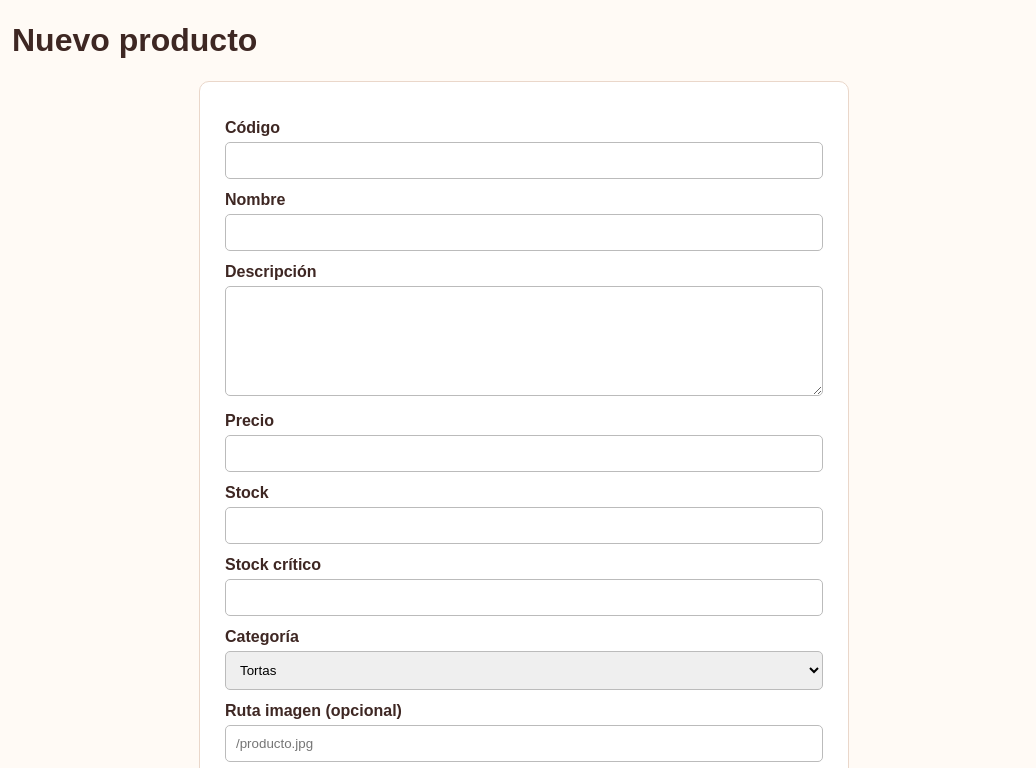
Test: FormularioProductoAdmin › muestra un error si el código tiene menos de 3 caracteres
The width and height of the screenshot is (1036, 768).
Type "AB" into the field with id "codigo" at (524, 161), box [225,142,823,179]
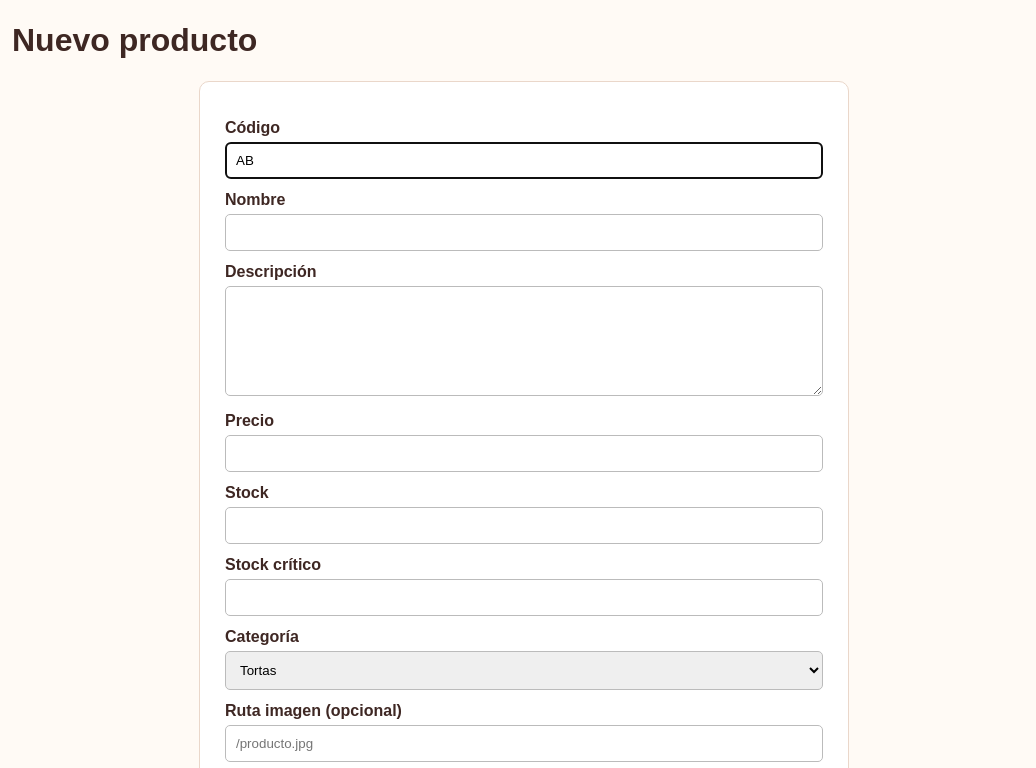
Type "Torta Especial" into the field with id "nombre" at (524, 233), box [225,214,823,251]
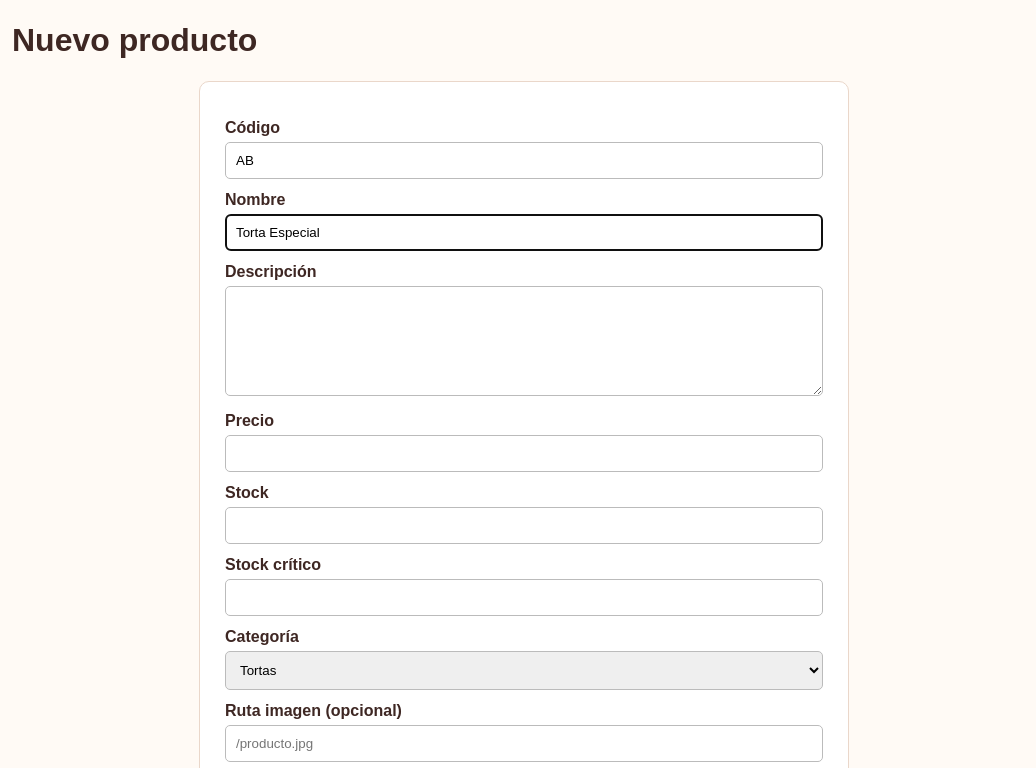
Type "15000" into the 1st number field at (524, 454), box [225,435,823,472]
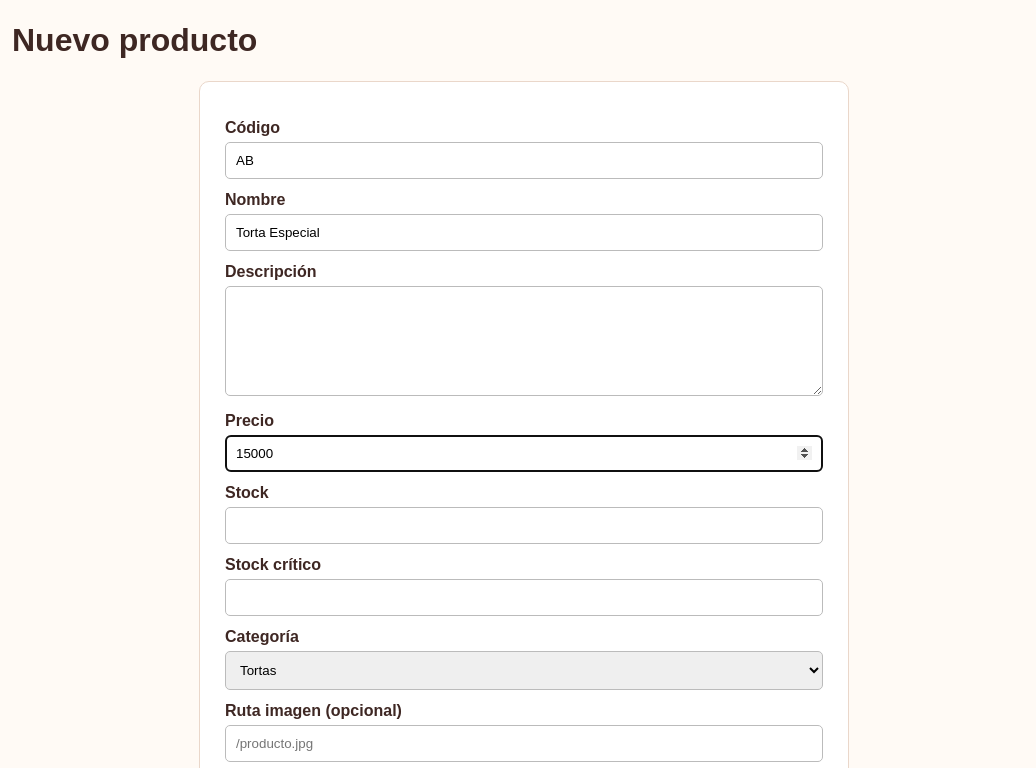
Type "4" into the number field with id "stock" at (524, 526), box [225,507,823,544]
(page scrolled)
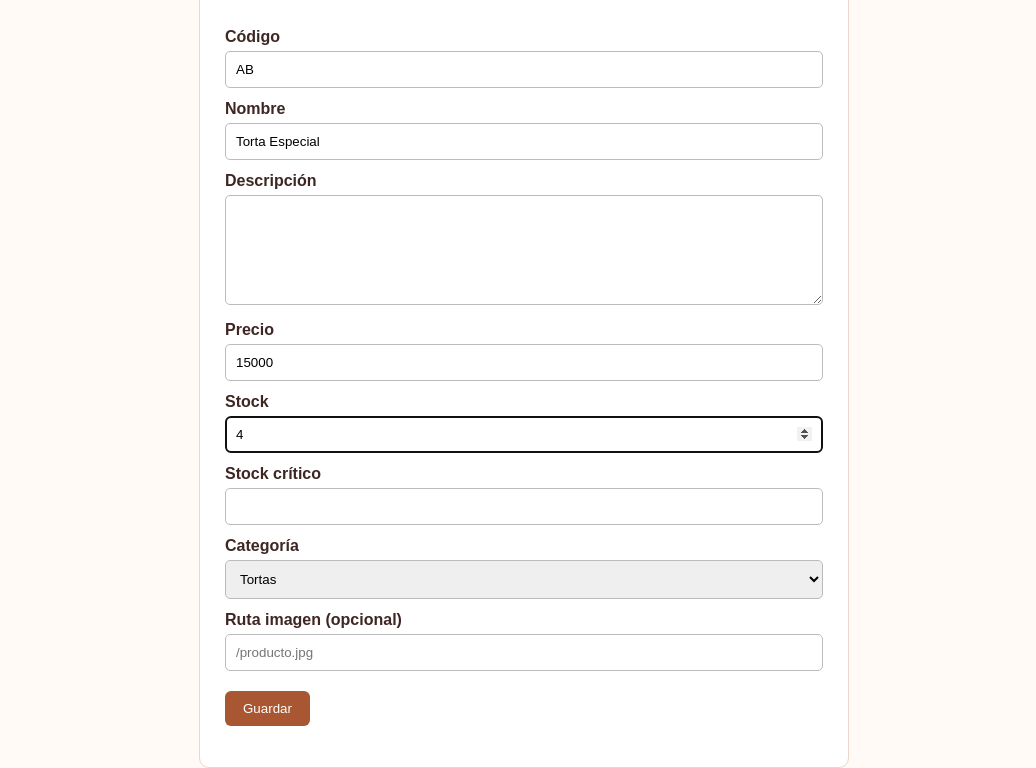
Click the button "Guardar" at (267, 709), box [225,691,310,726]
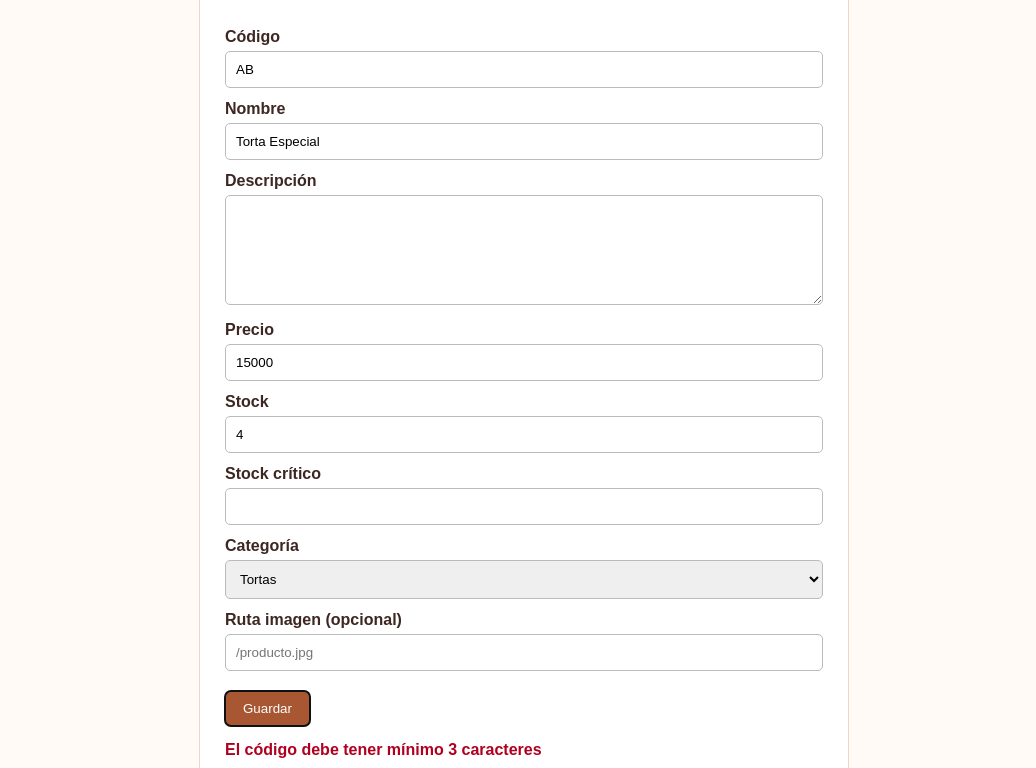
expect the text "El código debe tener mínimo 3 caracteres" is shown: met, box [225,741,542,758]
